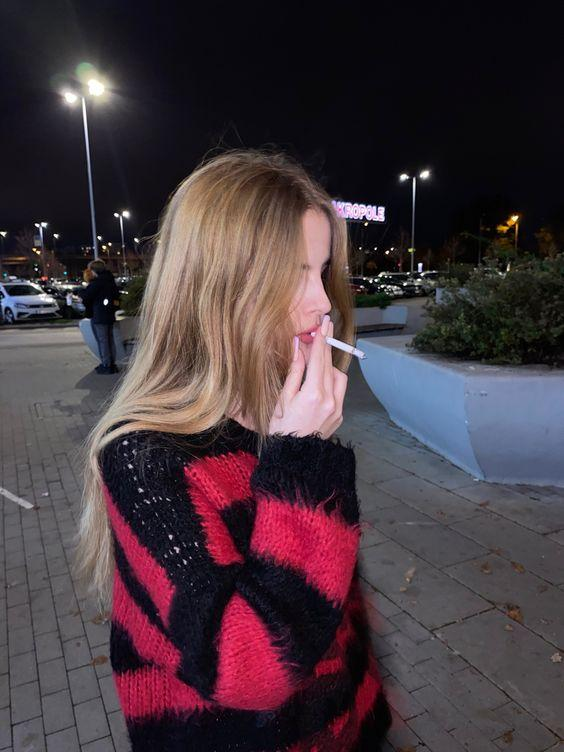cigarette: (309, 330, 365, 360)
